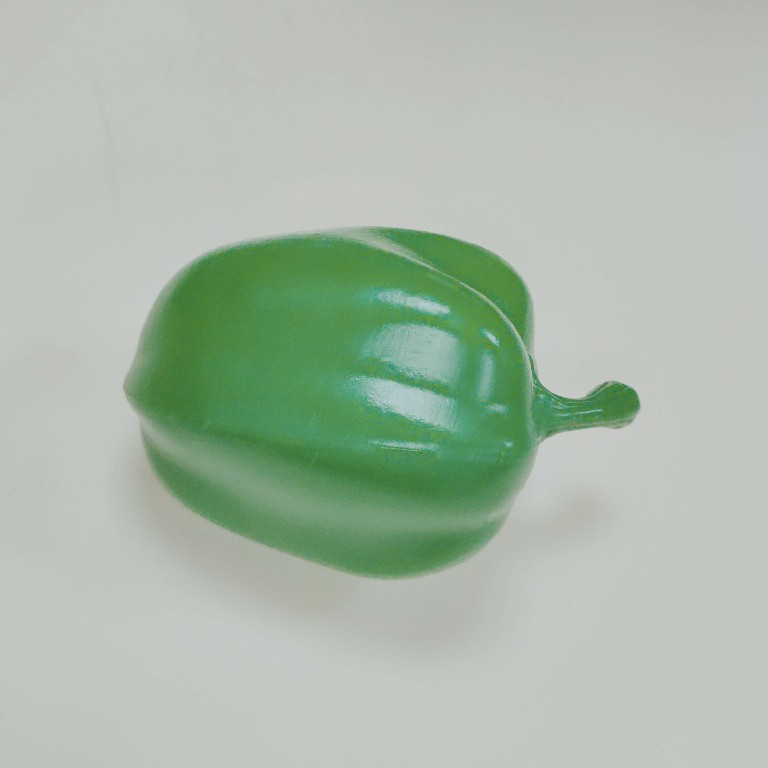fruit_pepper: (120, 223, 643, 585)
